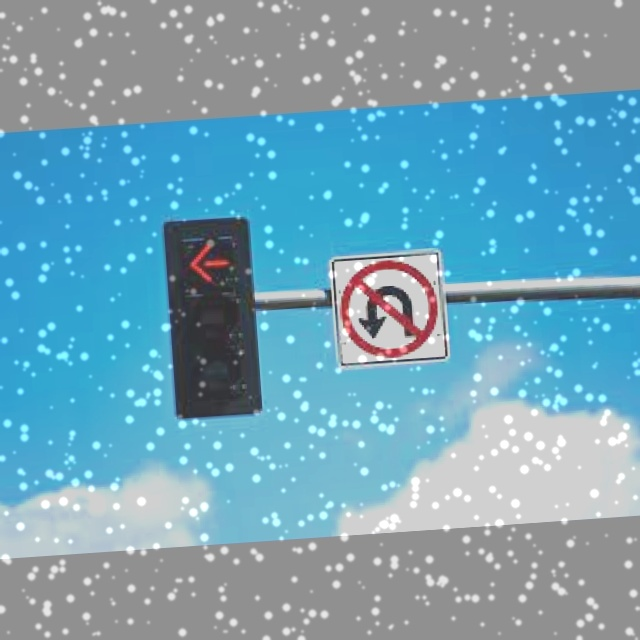U_Turn_Prohibited: (334, 253, 447, 365)
